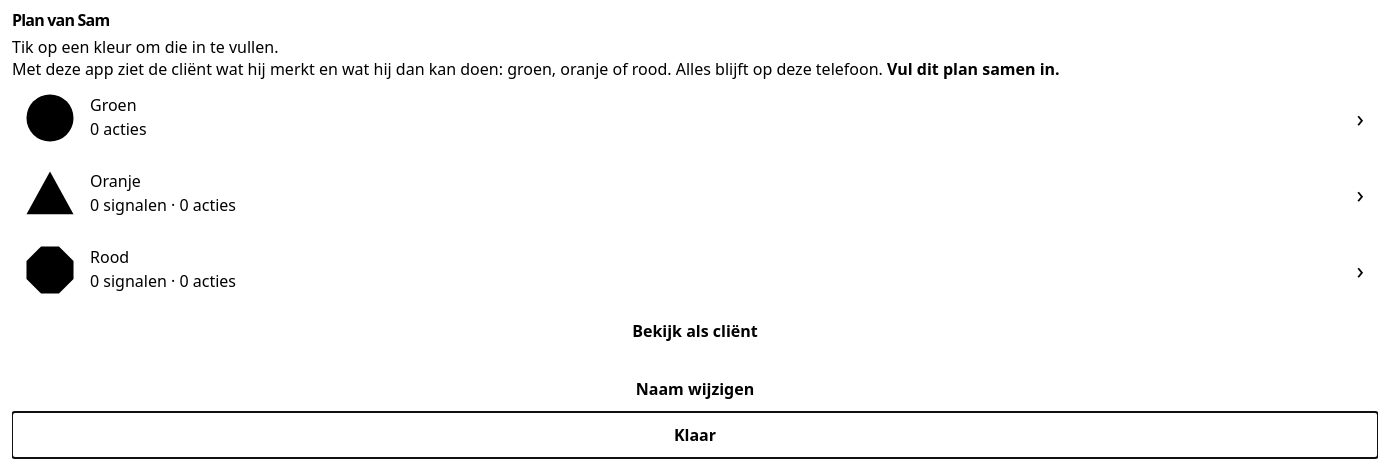
Scenario: App › saves the name, then "Klaar" goes back to the start
Earlier steps of the test are not shown.
Click the button "Klaar" at (695, 435), box [12,412,1378,458]
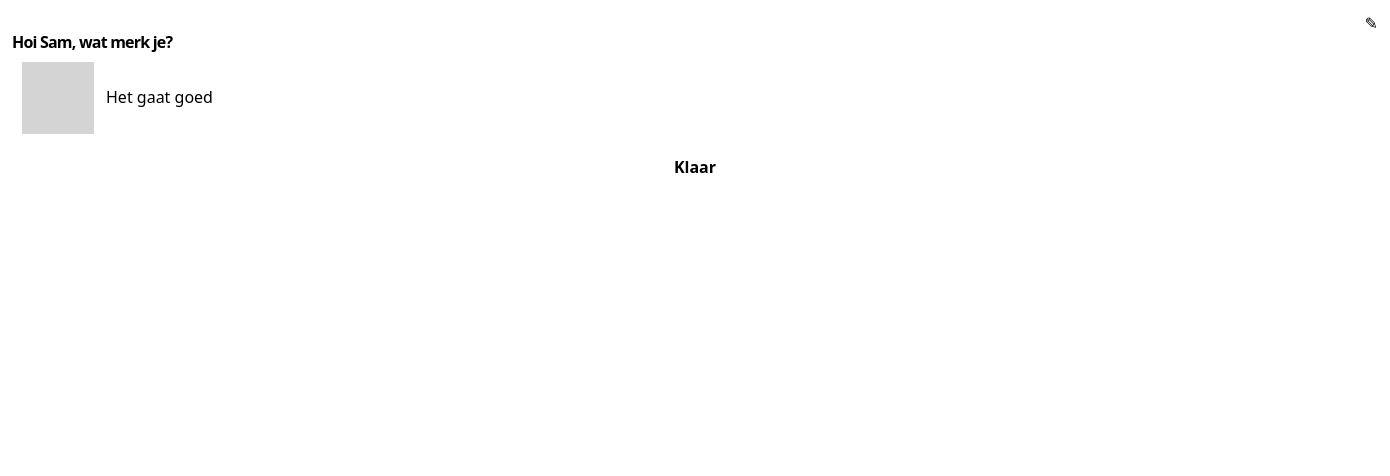
Check: the heading "Hoi Sam, wat merk je?" is shown, box [12,31,172,53]
